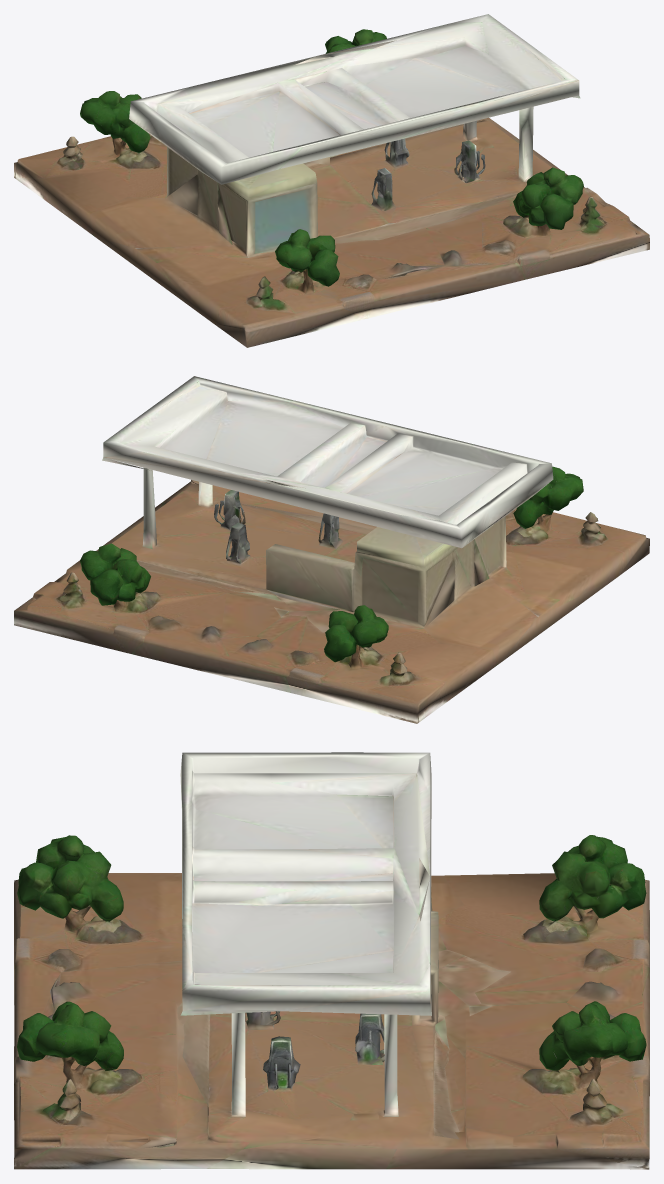
File: station.glb
3 renders of one model, top to bottom at view 1: azimuth 30°, elevation 25°; view 2: azimuth 150°, elevation 25°; view 3: azimuth 270°, elevation 25°, orthographic. The views are drawn at different scales.
Size of the model in its own units: 1.9 by 0.5685 by 1.9.
Materials: 1 (1 with a texture image).
